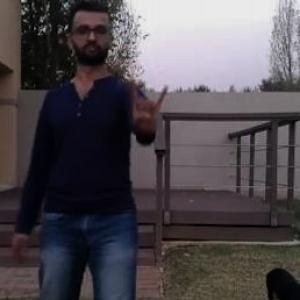takeoff-hand: (128, 69, 178, 140)
